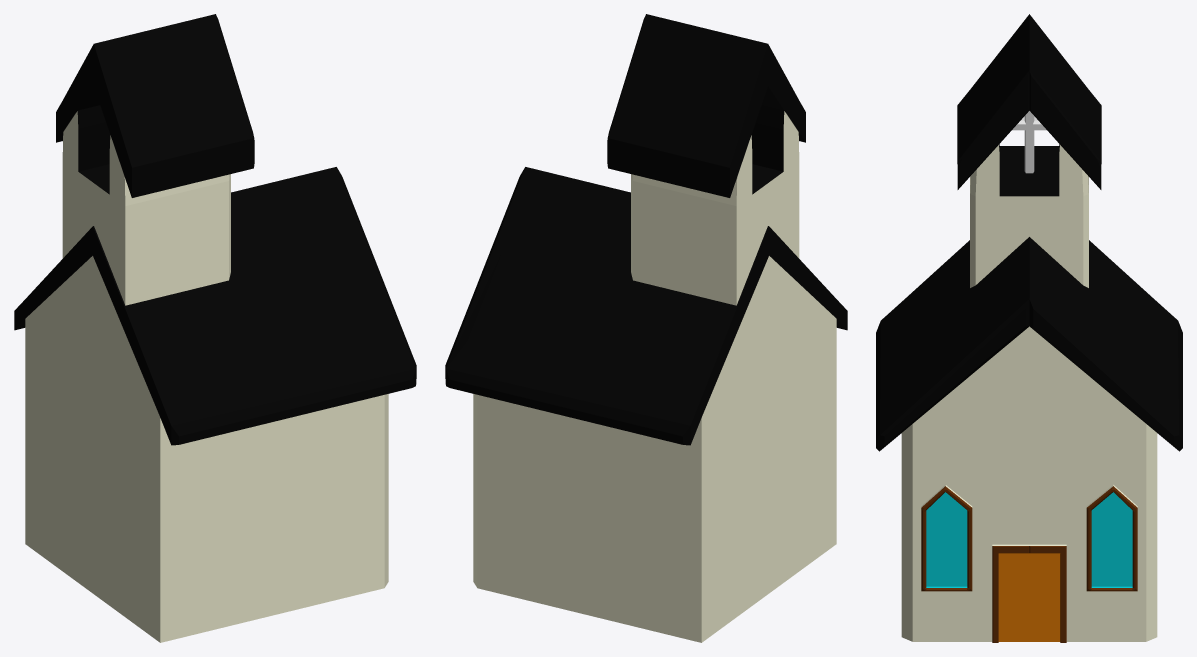
Rendered from church.fbx.
The picture shows the model from 3 angles, left to right: view 1: azimuth 30°, elevation 25°; view 2: azimuth 150°, elevation 25°; view 3: azimuth 270°, elevation 25°; orthographic projection. The views are drawn at different scales.
Visible parts, largest first — view 1: Cube, Cube.001; view 2: Cube, Cube.001; view 3: Cube, Cube.001, Cube.002.
Boxes of the visible parts, x1=… form: Cube: x1=14, y1=167, x2=416, y2=642; Cube.001: x1=56, y1=14, x2=254, y2=305; Cube: x1=445, y1=167, x2=847, y2=642; Cube.001: x1=607, y1=14, x2=805, y2=305; Cube: x1=876, y1=237, x2=1182, y2=642; Cube.001: x1=957, y1=14, x2=1101, y2=287; Cube.002: x1=1012, y1=111, x2=1046, y2=173.
Size of the model in its own units: 1057 by 2244 by 1199.
